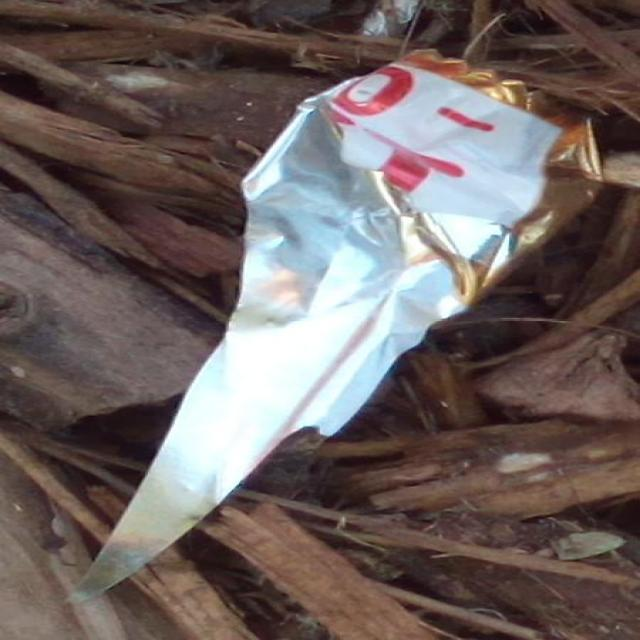litter: (74, 48, 606, 603)
